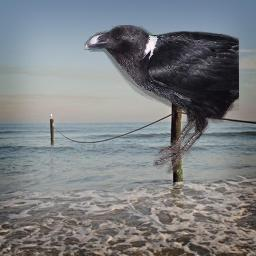Crow: (84, 24, 239, 176)
